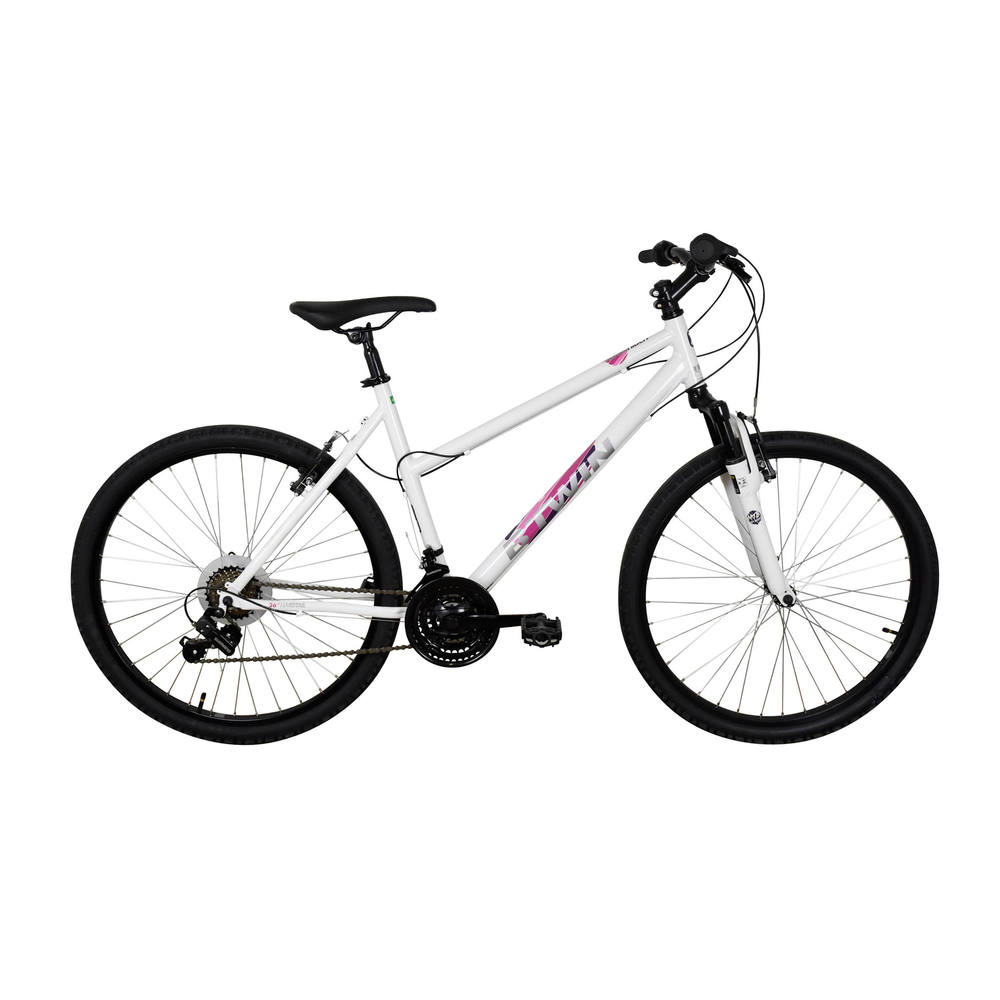RoadBike: (127, 205, 878, 816)
